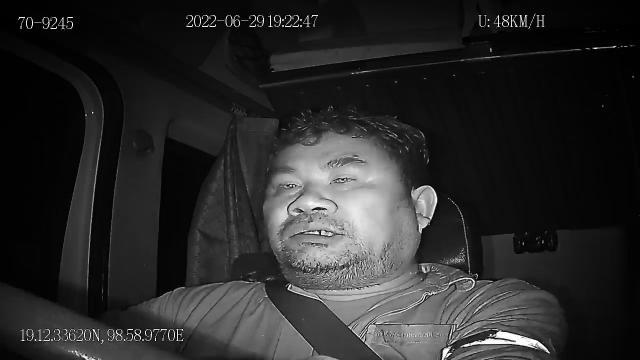SafeDriving: (324, 164, 367, 191), (268, 172, 307, 199)
Seatbelt: (264, 278, 386, 360)
